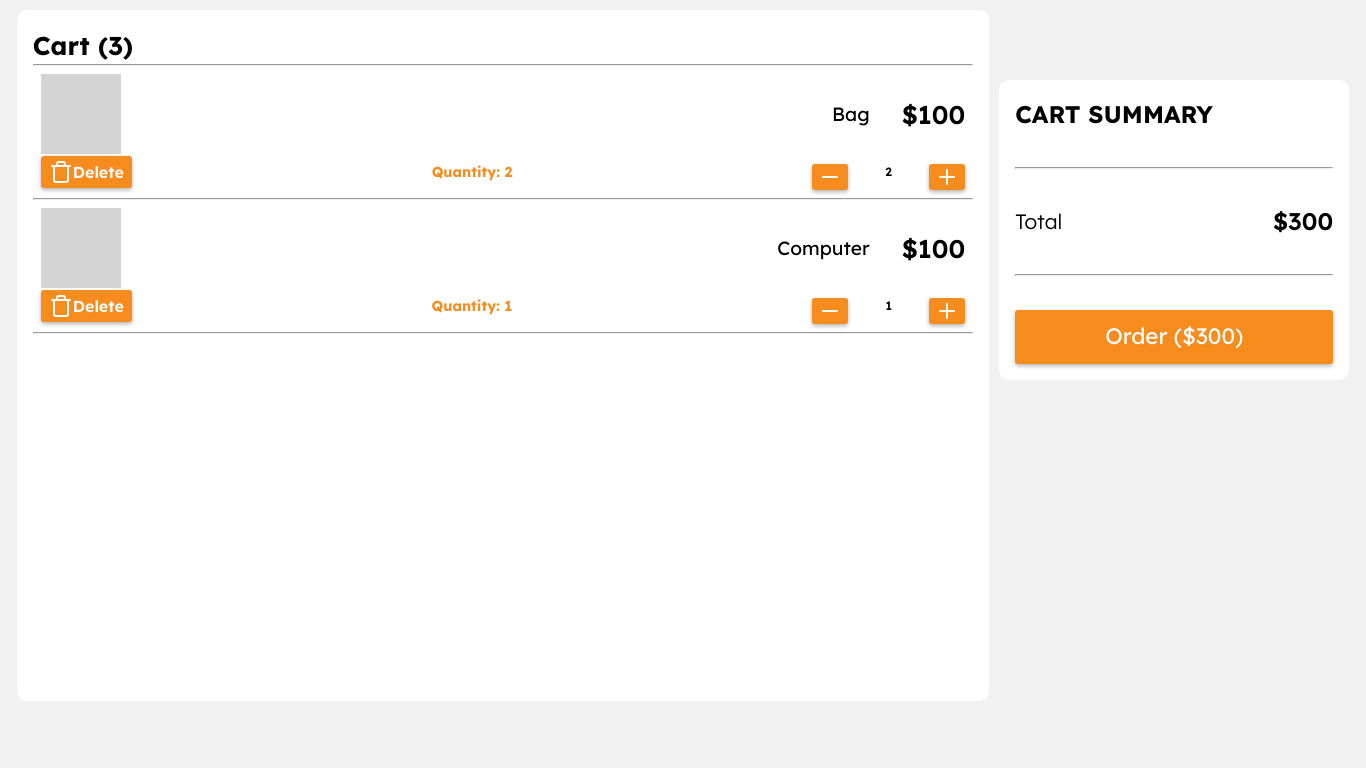
Test: item card › increment and decrement button do their job
Click the button named "increment" in the row of "Quantity: 2" at (947, 177), box [929,164,965,190]
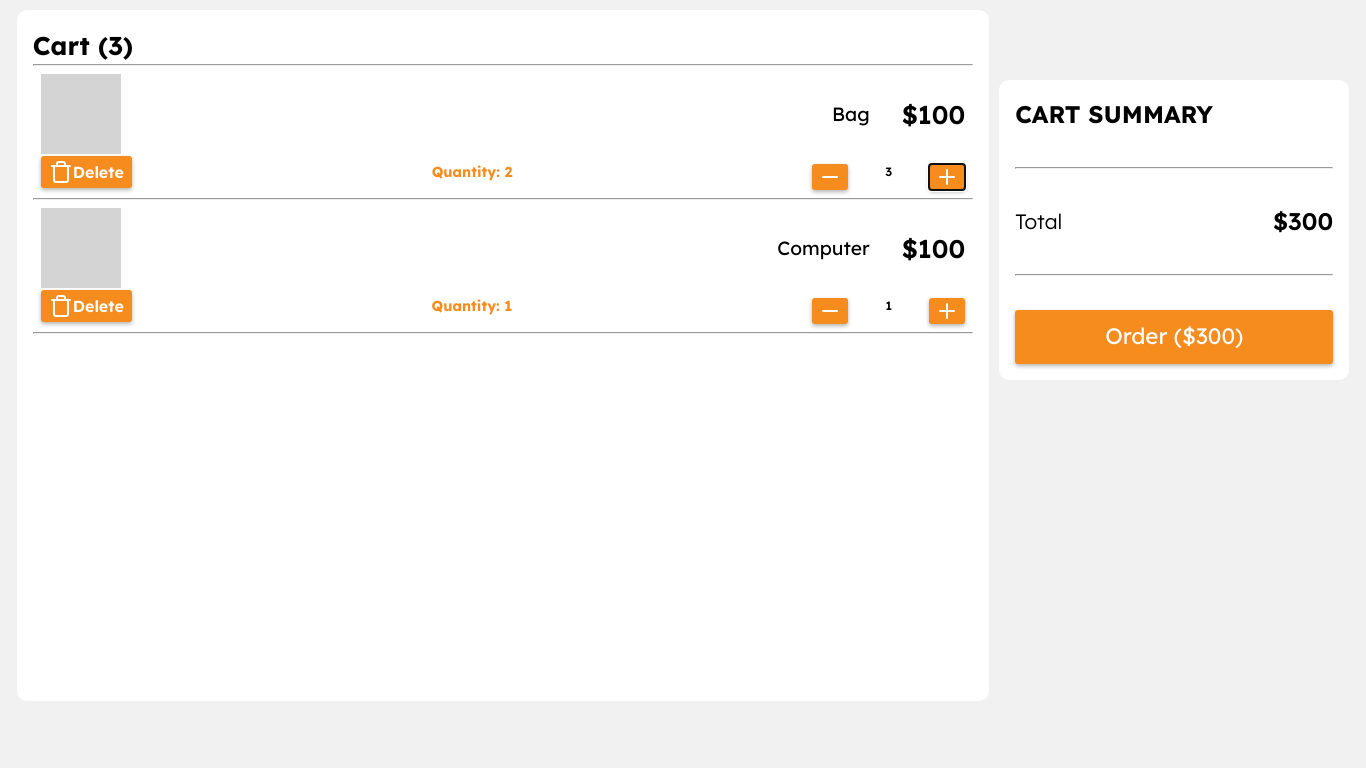
Click the button named "increment" in the row of "Quantity: 2" at (947, 177), box [929,164,965,190]
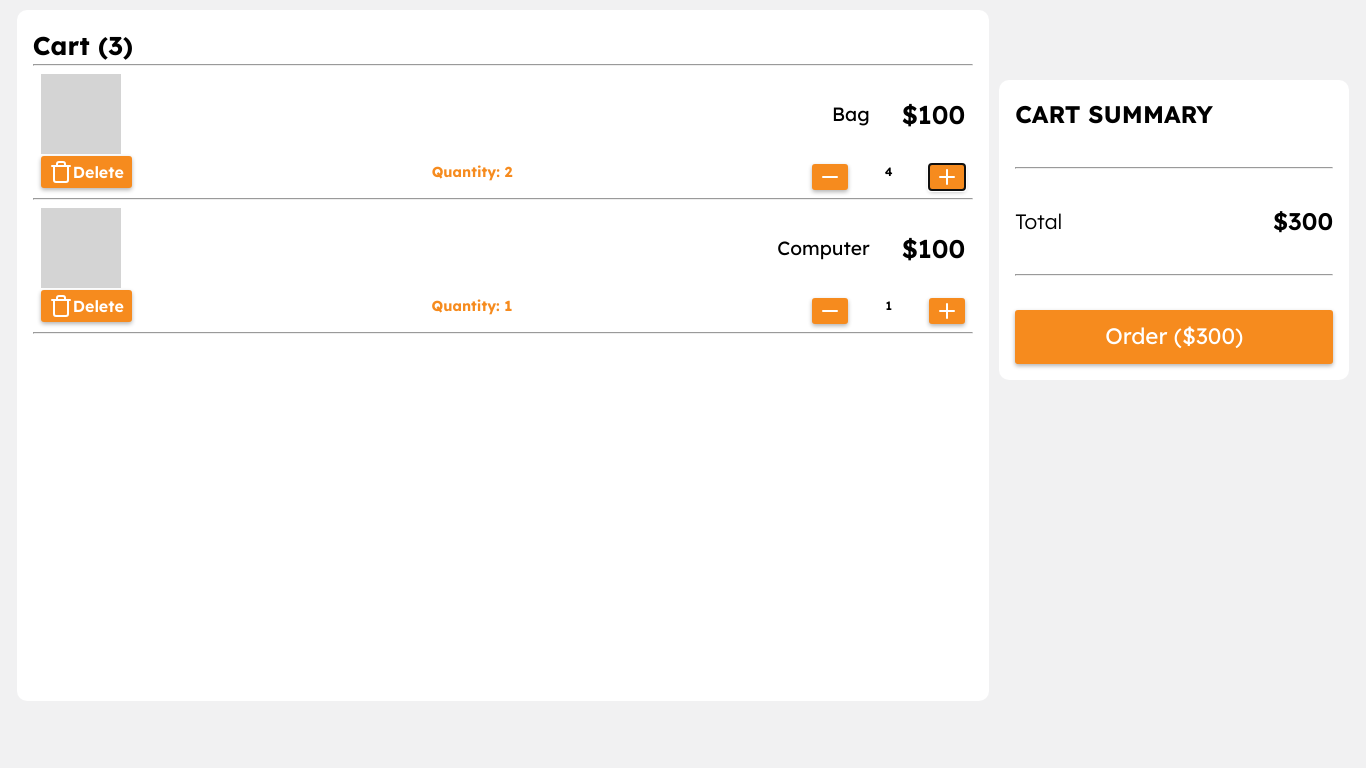
Click the button named "decrement" in the row of "Quantity: 2" at (830, 177), box [812,164,848,190]
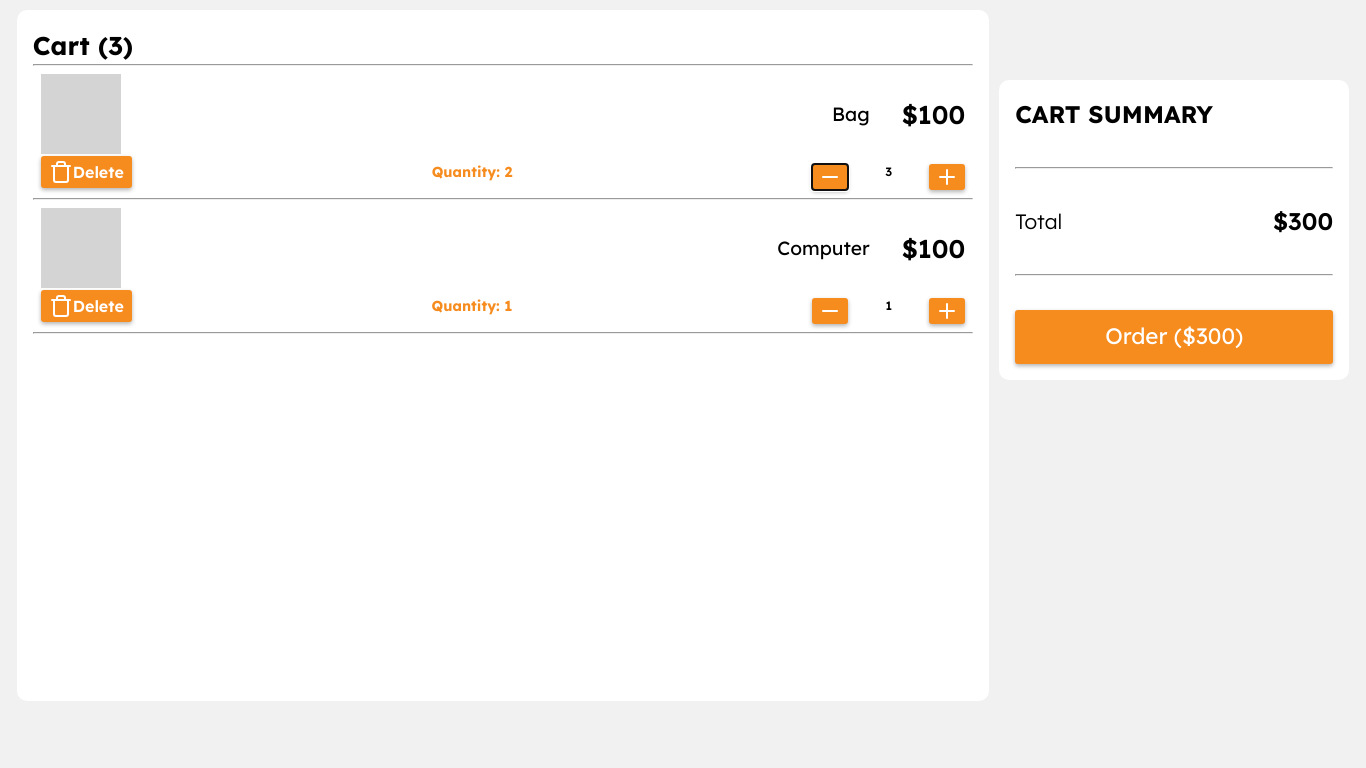
expect the field in the row of "Quantity: 2" holds "3": met, box [856,162,921,182]
